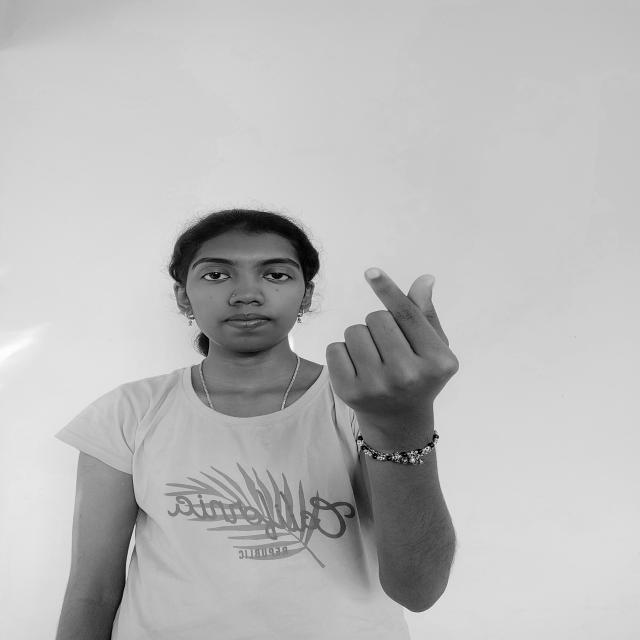Grattitude: (316, 262, 464, 436)
